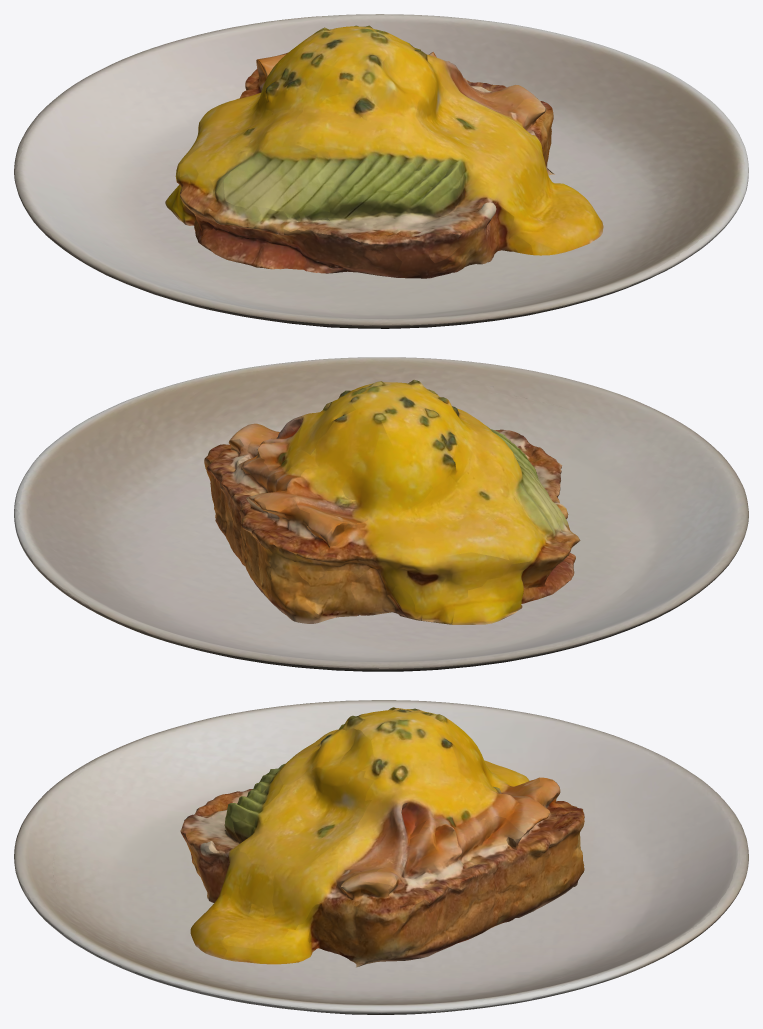
The model's file is Set04.001.glb.
3 renders of one model, top to bottom at view 1: azimuth 30°, elevation 25°; view 2: azimuth 150°, elevation 25°; view 3: azimuth 270°, elevation 25°, orthographic.
Visible parts, largest first — view 1: /Root/Scenes/Scene/Object_185/Object_189/Object_190/Submesh_, /Root/Scenes/Scene/Object_185/Object_186/Submesh_0; view 2: /Root/Scenes/Scene/Object_185/Object_189/Object_190/Submesh_, /Root/Scenes/Scene/Object_185/Object_186/Submesh_0; view 3: /Root/Scenes/Scene/Object_185/Object_189/Object_190/Submesh_, /Root/Scenes/Scene/Object_185/Object_186/Submesh_0.
Boxes of the visible parts, box(x1,y1,x2,y2) form: /Root/Scenes/Scene/Object_185/Object_189/Object_190/Submesh_: box(14, 14, 748, 328); /Root/Scenes/Scene/Object_185/Object_186/Submesh_0: box(165, 25, 603, 278); /Root/Scenes/Scene/Object_185/Object_189/Object_190/Submesh_: box(14, 357, 748, 671); /Root/Scenes/Scene/Object_185/Object_186/Submesh_0: box(204, 379, 580, 624); /Root/Scenes/Scene/Object_185/Object_189/Object_190/Submesh_: box(14, 700, 748, 1014); /Root/Scenes/Scene/Object_185/Object_186/Submesh_0: box(180, 707, 584, 967).
Size of the model in its own units: 0.2401 by 0.0631 by 0.2401.
2 materials, 2 textured.
